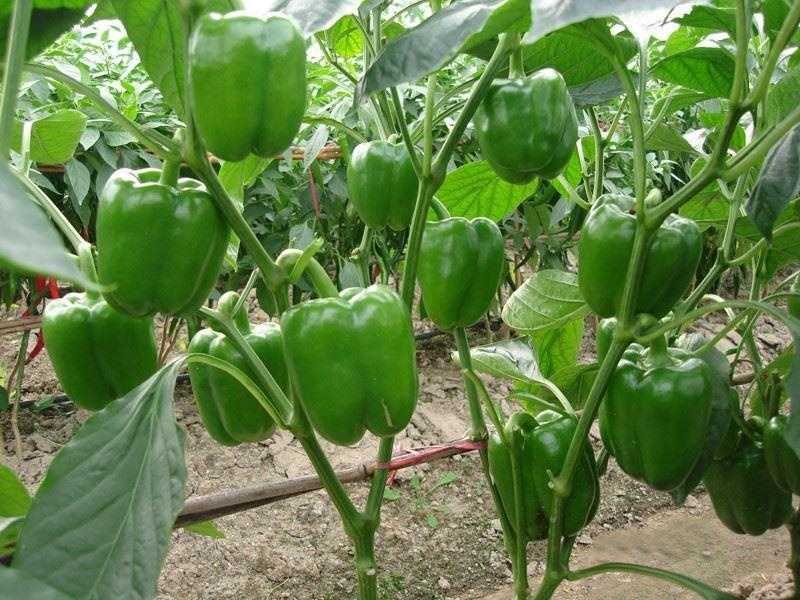fruit: (280, 281, 419, 448), (96, 164, 230, 322), (186, 10, 310, 160), (577, 191, 702, 324), (601, 342, 711, 493), (486, 408, 600, 547), (41, 290, 158, 412), (189, 319, 292, 449), (467, 66, 578, 185), (705, 415, 793, 536), (415, 216, 505, 334), (347, 134, 424, 233), (761, 411, 800, 496)
pedicle: (641, 351, 682, 372), (71, 298, 105, 307)
